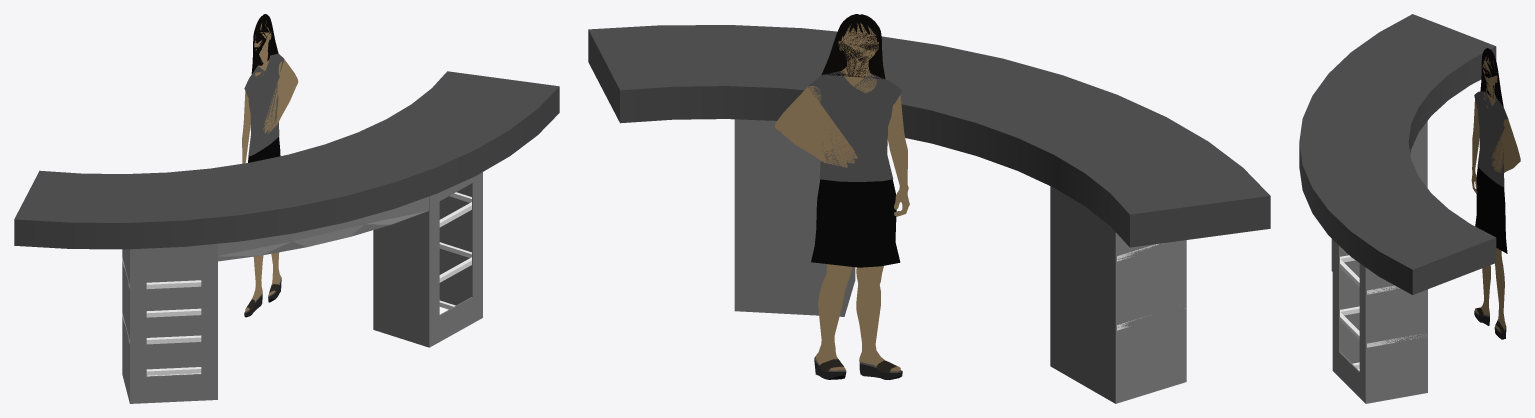
The model's file is DESK-HSTDK (1).fbx.
3 renders of one model, left to right at view 1: azimuth 30°, elevation 25°; view 2: azimuth 150°, elevation 25°; view 3: azimuth 270°, elevation 25°, orthographic. The views are drawn at different scales.
Visible parts, largest first — view 1: Group1, Group_4_1_1, Group_4_1_2, Sophie1, Group_9, Group_6_1, Group_6; view 2: Group1, Sophie1, Group_4_1_2, Group_4_1_1; view 3: Group1, Group_4_1_1, Sophie1, Group_4_1_2, Group_6, Group_5.
Boxes of the visible parts, x1,y1,x2,y2 form: Group1: (14, 71, 559, 249); Group_4_1_1: (373, 172, 482, 347); Group_4_1_2: (122, 243, 217, 403); Sophie1: (242, 14, 298, 317); Group_9: (218, 196, 428, 261); Group_6_1: (122, 308, 201, 344); Group_6: (439, 242, 471, 282); Group1: (588, 25, 1270, 247); Sophie1: (775, 14, 909, 379); Group_4_1_2: (1050, 186, 1186, 403); Group_4_1_1: (734, 119, 855, 316); Group1: (1299, 14, 1496, 294); Group_4_1_1: (1332, 240, 1427, 403); Sophie1: (1471, 48, 1520, 339); Group_4_1_2: (1331, 121, 1427, 271); Group_6: (1340, 306, 1426, 347); Group_5: (1340, 255, 1399, 294).
Bounding box in the file's own units: 130 × 66.75 × 47.49.
